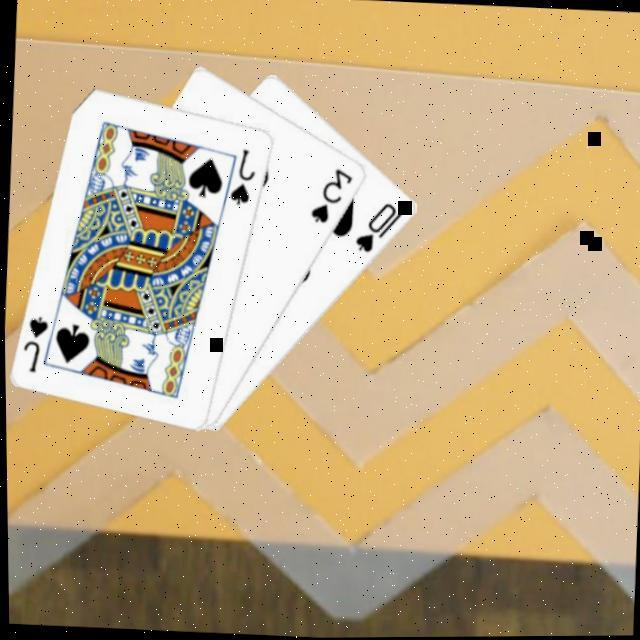10S: (349, 199, 405, 259)
3S: (304, 164, 355, 228)
JS: (223, 146, 258, 210), (16, 313, 50, 376)
